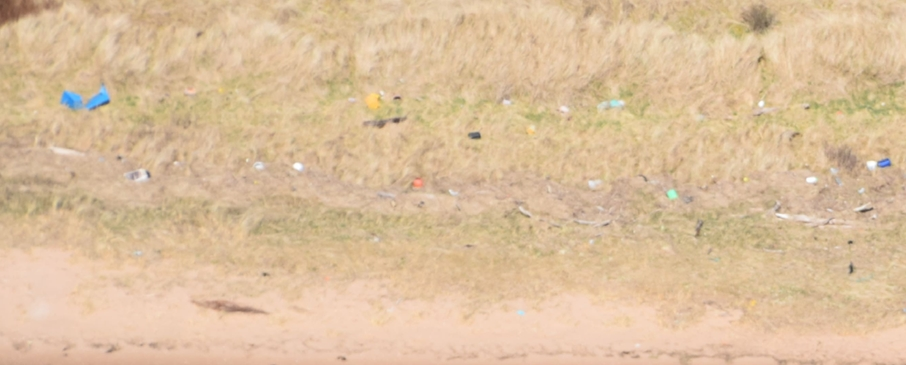scattered_barrel: (232, 81, 488, 213), (735, 83, 900, 279), (495, 86, 688, 232), (28, 56, 174, 207)
